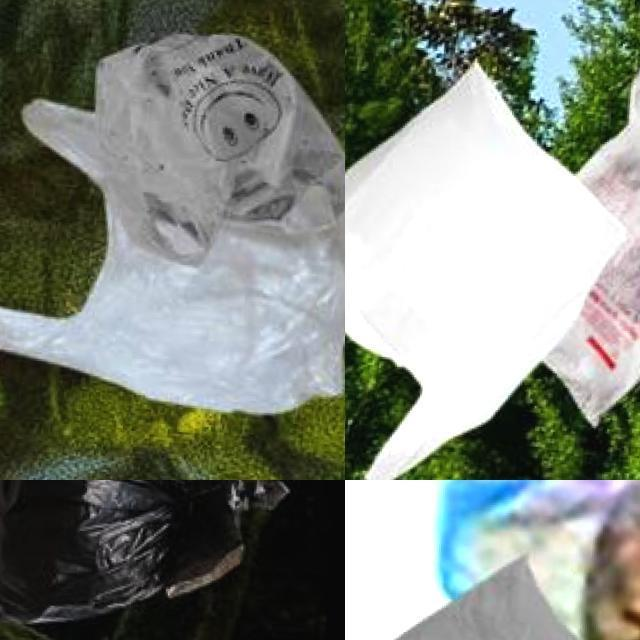waste: (345, 44, 633, 480), (0, 93, 345, 415), (90, 30, 345, 257), (518, 50, 640, 436), (0, 480, 280, 640), (372, 540, 640, 640)
